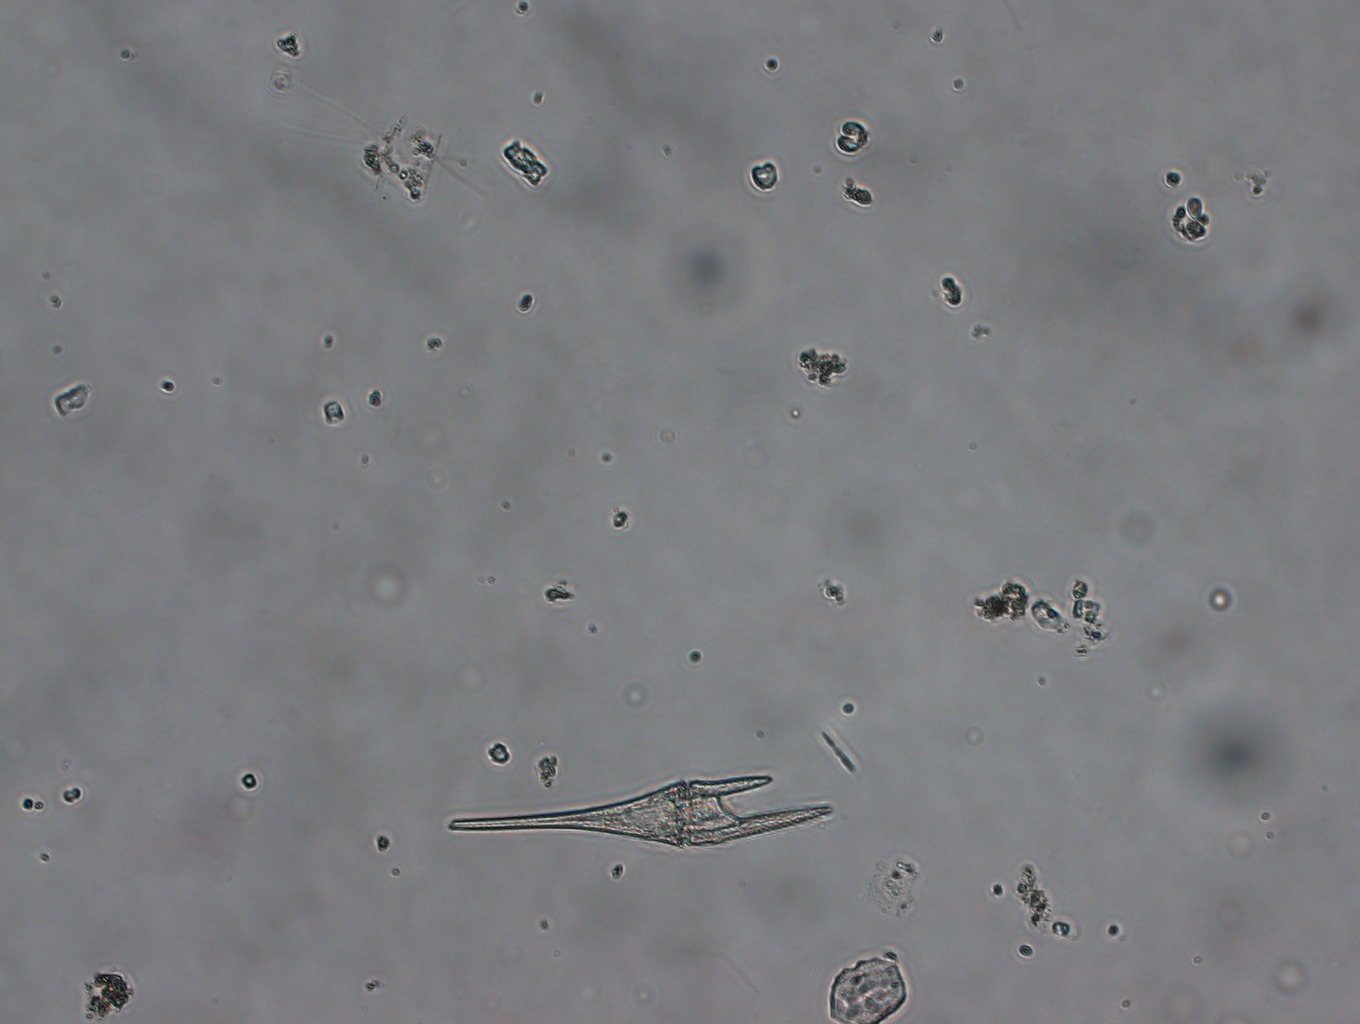ceratium furca: (448, 758, 840, 859)
